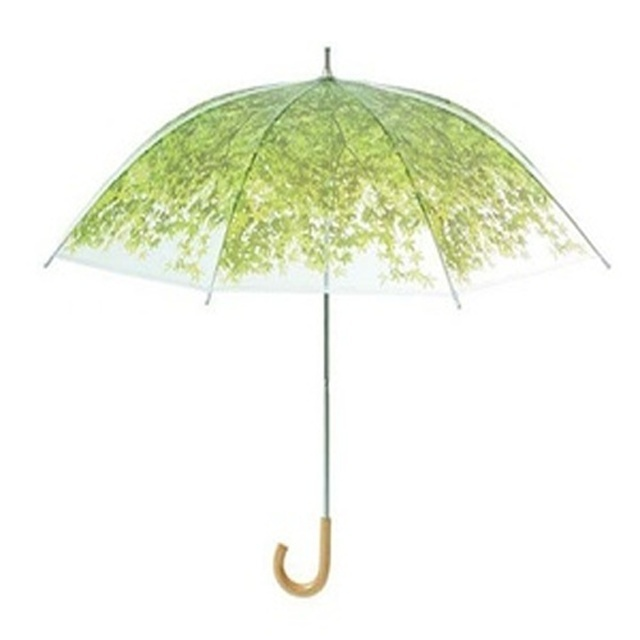umbrella: (31, 58, 619, 606)
